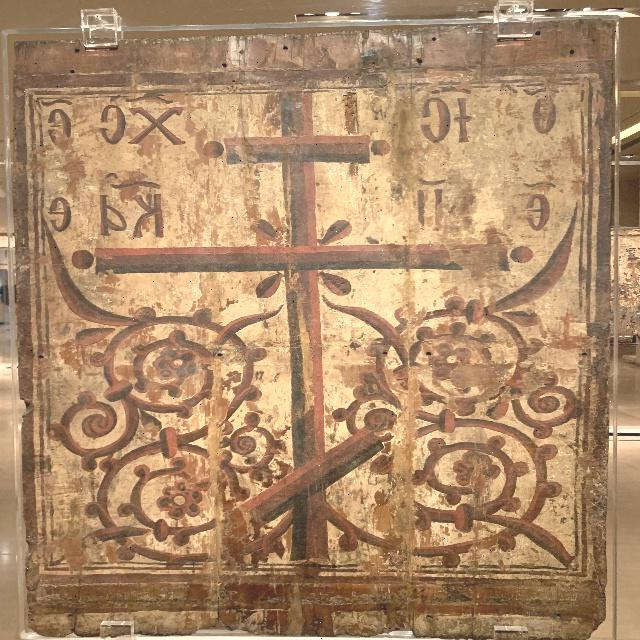cross: (93, 86, 511, 572)
